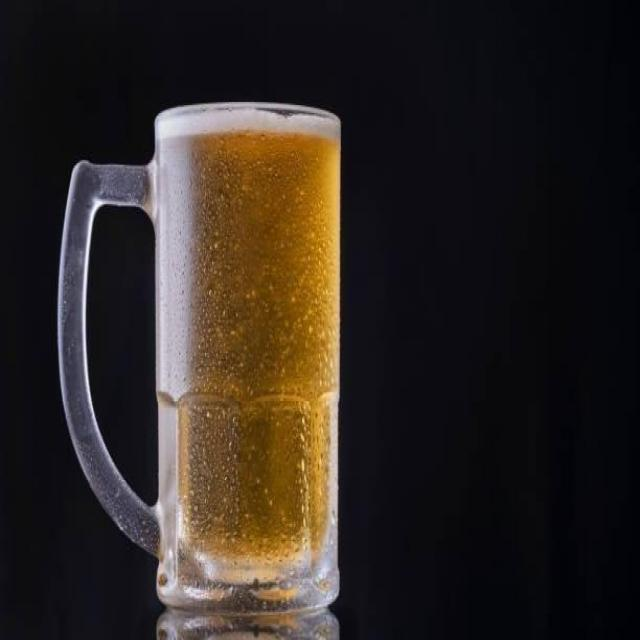glass-mug: (56, 94, 346, 637)
